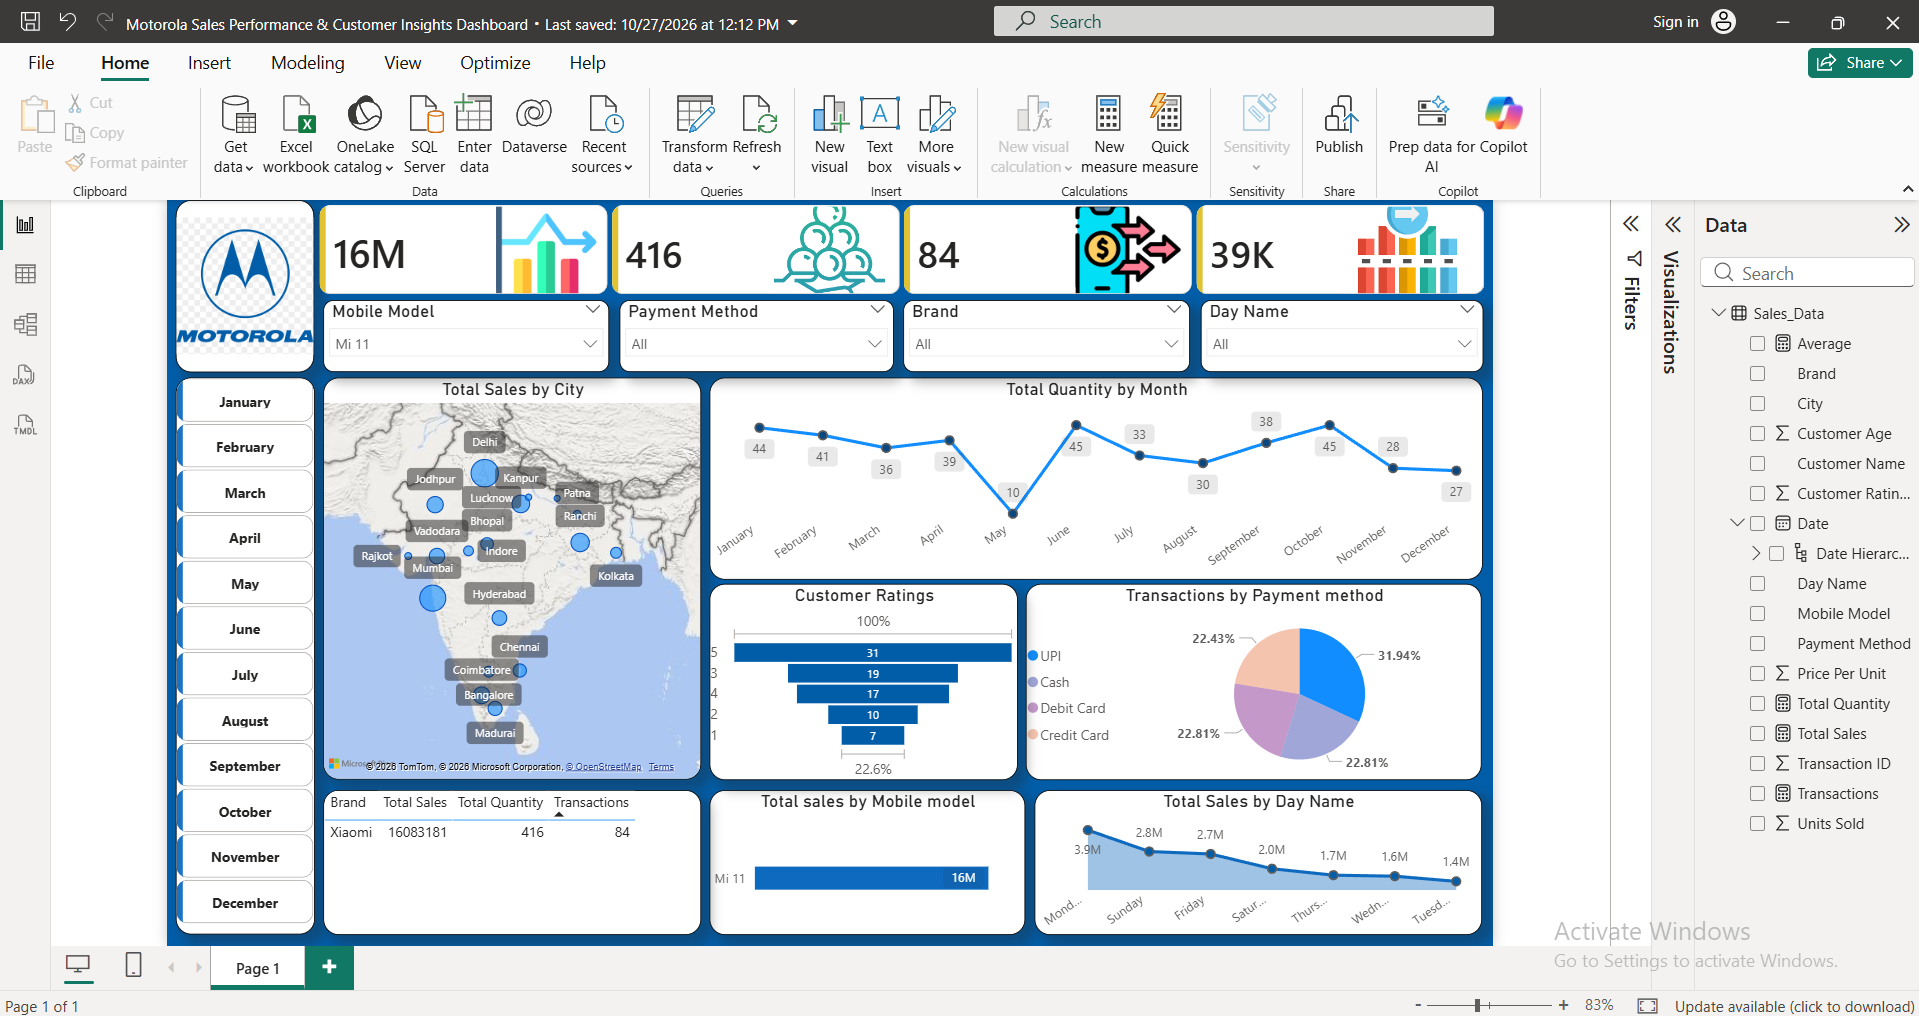

Layout of this report page (visuals, bound fields, positions):
{"tool":"powerbi","page":{"name":"Page 1","canvas":[1280,720],"ordinal":0},"visuals":[{"type":"image","box":[8.4,0,133.9,166.5],"z":0},{"type":"advancedSlicerVisual","fields":{"Values":["Sales_Data.Date.Variation.Date Hierarchy.Month"]},"box":[8.2,171.5,134.5,537.9],"z":1000},{"type":"cardVisual","fields":{"Data":["Sales_Data.Total Sales","Sales_Data.Total Quantity","Sales_Data.Transactions","Sales_Data.Average"]},"box":[142.4,0,1137.7,96.5],"z":2000},{"type":"map","fields":{"Category":["Sales_Data.City"],"Size":["Sales_Data.Total Sales"]},"box":[150.9,171.5,365,388.3],"z":3000},{"type":"lineChart","title":"Total Quantity by Month","fields":{"Y":["Sales_Data.Total Quantity"],"Category":["Sales_Data.Date.Variation.Date Hierarchy.Month","Sales_Data.Date.Variation.Date Hierarchy.Day"]},"box":[524.2,171.5,746.5,194.9],"z":4000},{"type":"clusteredBarChart","title":"Total sales by Mobile model","fields":{"Category":["Sales_Data.Mobile Model"],"Y":["Sales_Data.Total Sales"]},"box":[524.2,569.5,304.6,140],"z":4001},{"type":"pieChart","title":"Transactions by Payment  method","fields":{"Category":["Sales_Data.Payment Method"],"Y":["Sales_Data.Transactions"]},"box":[828.8,370.4,440.4,189.4],"z":4002},{"type":"funnel","title":"Customer Ratings","fields":{"Category":["Sales_Data.Customer Ratings"],"Y":["CountNonNull(Sales_Data.Customer Ratings)"]},"box":[524.2,370.5,297.8,189.4],"z":4003},{"type":"areaChart","fields":{"Category":["Sales_Data.Day Name"],"Y":["Sales_Data.Total Sales"]},"box":[837.3,569.4,431.9,139.9],"z":4004},{"type":"tableEx","fields":{"Values":["Sales_Data.Brand","Sales_Data.Total Sales","Sales_Data.Total Quantity","Sales_Data.Transactions"]},"box":[150.9,569.5,365,140],"z":4005},{"type":"slicer","fields":{"Values":["Sales_Data.Mobile Model"]},"box":[150.9,96.1,275.8,70],"z":4006},{"type":"slicer","fields":{"Values":["Sales_Data.Payment Method"]},"box":[436.4,96.1,264.8,70],"z":4007},{"type":"slicer","fields":{"Values":["Sales_Data.Brand"]},"box":[710.8,96.1,277.2,70],"z":4008},{"type":"slicer","fields":{"Values":["Sales_Data.Day Name"]},"box":[997.6,96.1,273.1,70],"z":4009}]}

Visuals, with their boxes on the page's 1280x720 design canvas (x1, y1, x2, y2). These are canvas units, not pixel positions in the 1919x1016 screenshot, which may show the page scaled, cropped or inside an application window:
image: <box>8,0,142,166</box>
advancedSlicerVisual - Sales_Data.Date.Variation.Date Hierarchy.Month: <box>8,172,143,709</box>
cardVisual - Sales_Data.Total Sales x Sales_Data.Total Quantity: <box>142,0,1280,96</box>
map - Sales_Data.City x Sales_Data.Total Sales: <box>151,172,516,560</box>
"Total Quantity by Month" lineChart: <box>524,172,1271,366</box>
"Total sales by Mobile model" clusteredBarChart: <box>524,570,829,710</box>
"Transactions by Payment  method" pieChart: <box>829,370,1269,560</box>
"Customer Ratings" funnel: <box>524,370,822,560</box>
areaChart - Sales_Data.Day Name x Sales_Data.Total Sales: <box>837,569,1269,709</box>
tableEx - Sales_Data.Brand x Sales_Data.Total Sales: <box>151,570,516,710</box>
slicer - Sales_Data.Mobile Model: <box>151,96,427,166</box>
slicer - Sales_Data.Payment Method: <box>436,96,701,166</box>
slicer - Sales_Data.Brand: <box>711,96,988,166</box>
slicer - Sales_Data.Day Name: <box>998,96,1271,166</box>
